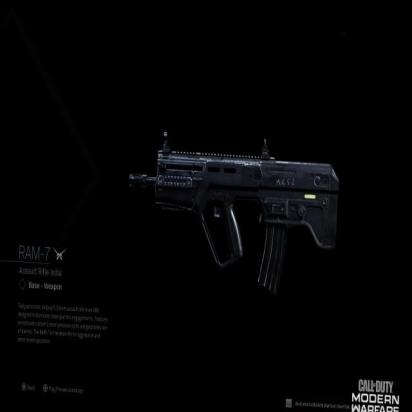Gun: (122, 115, 344, 298)
